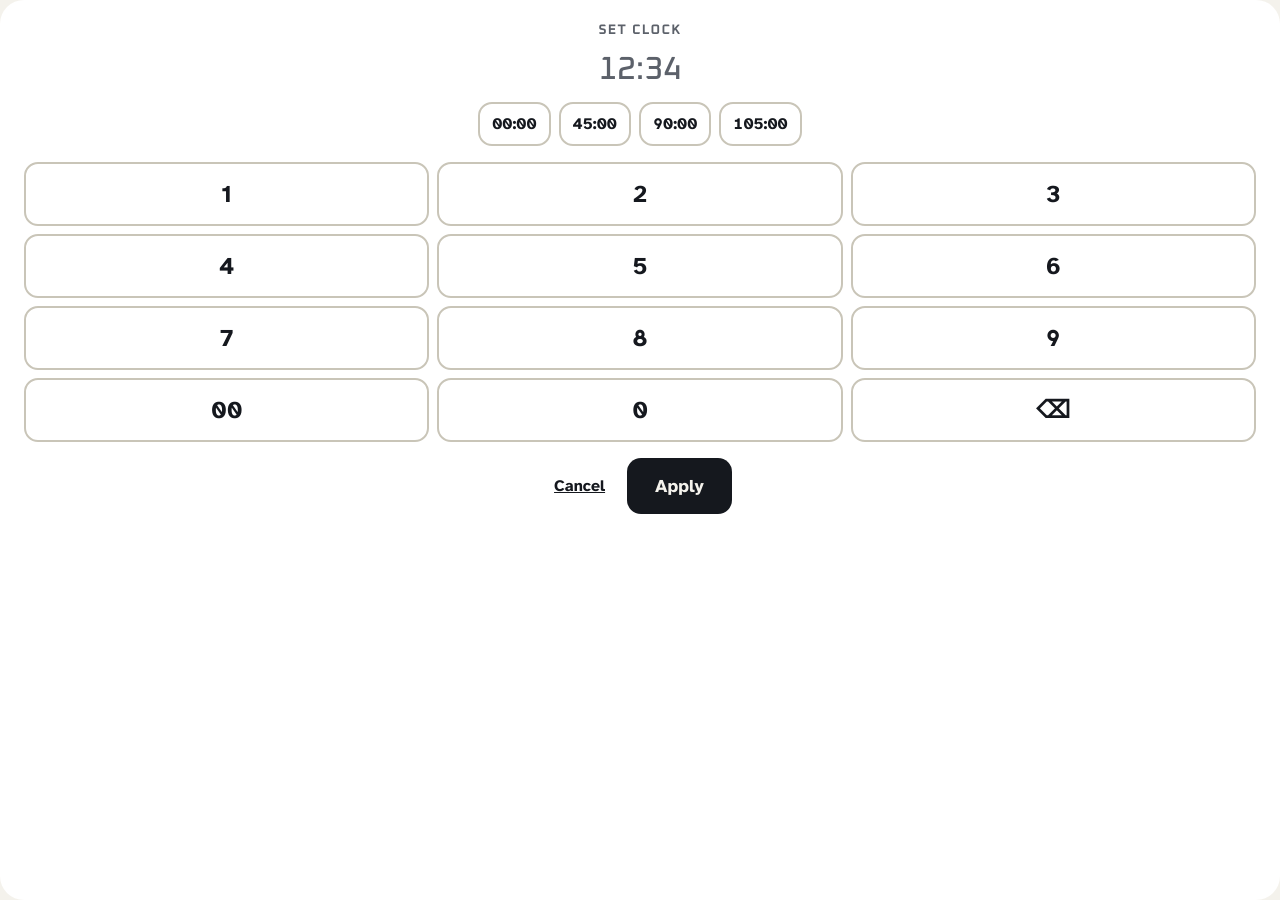
Test case: ClockSheet › shifts digits in from the right
This screenshot has width=1280, height=900.
Step 1. Click the button "4" → (227, 266), box [24, 234, 429, 298]
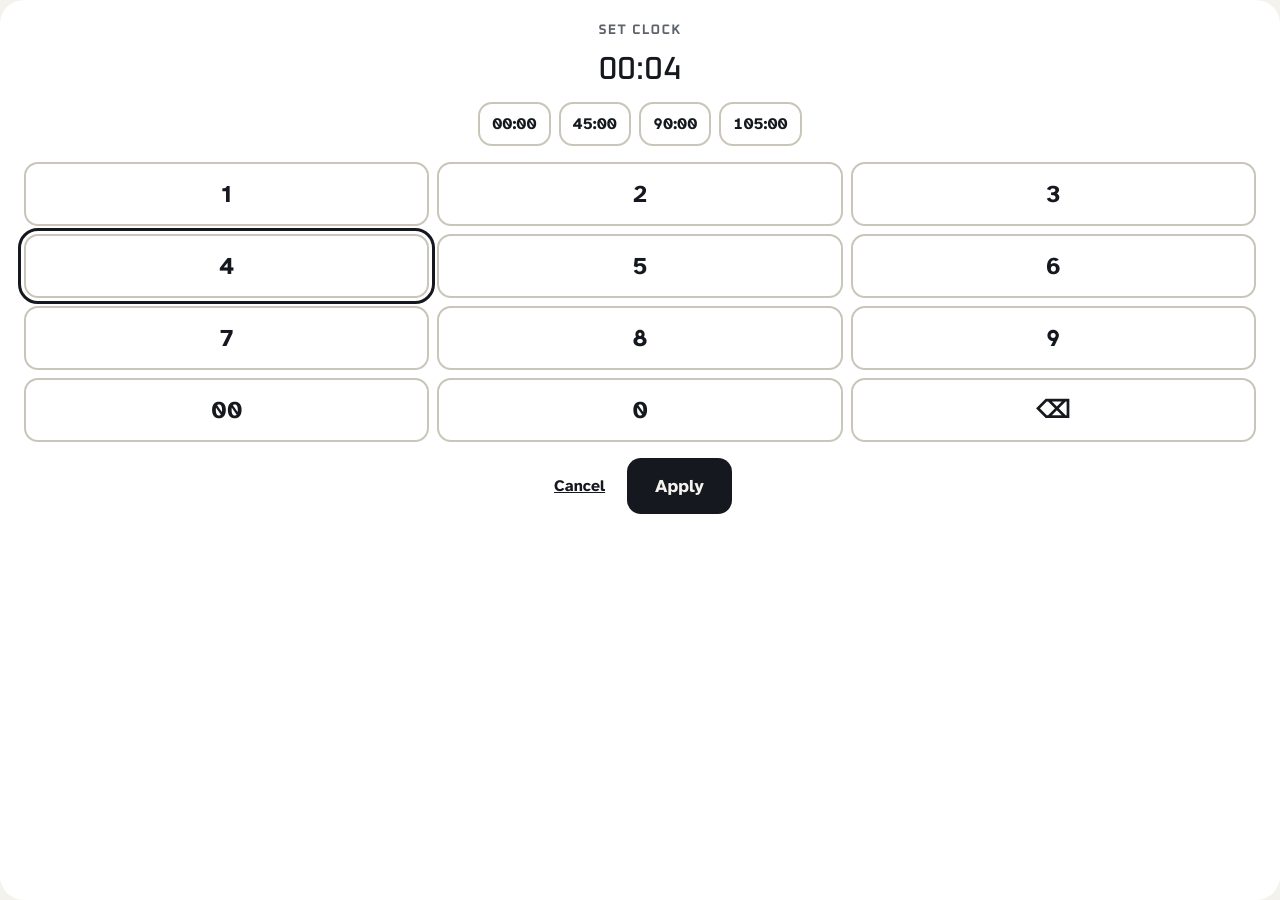
Check: the text named "New clock time" reads "00:04", box [599, 54, 681, 86]
Step 2. Click the button "5" → (640, 266), box [437, 234, 843, 298]
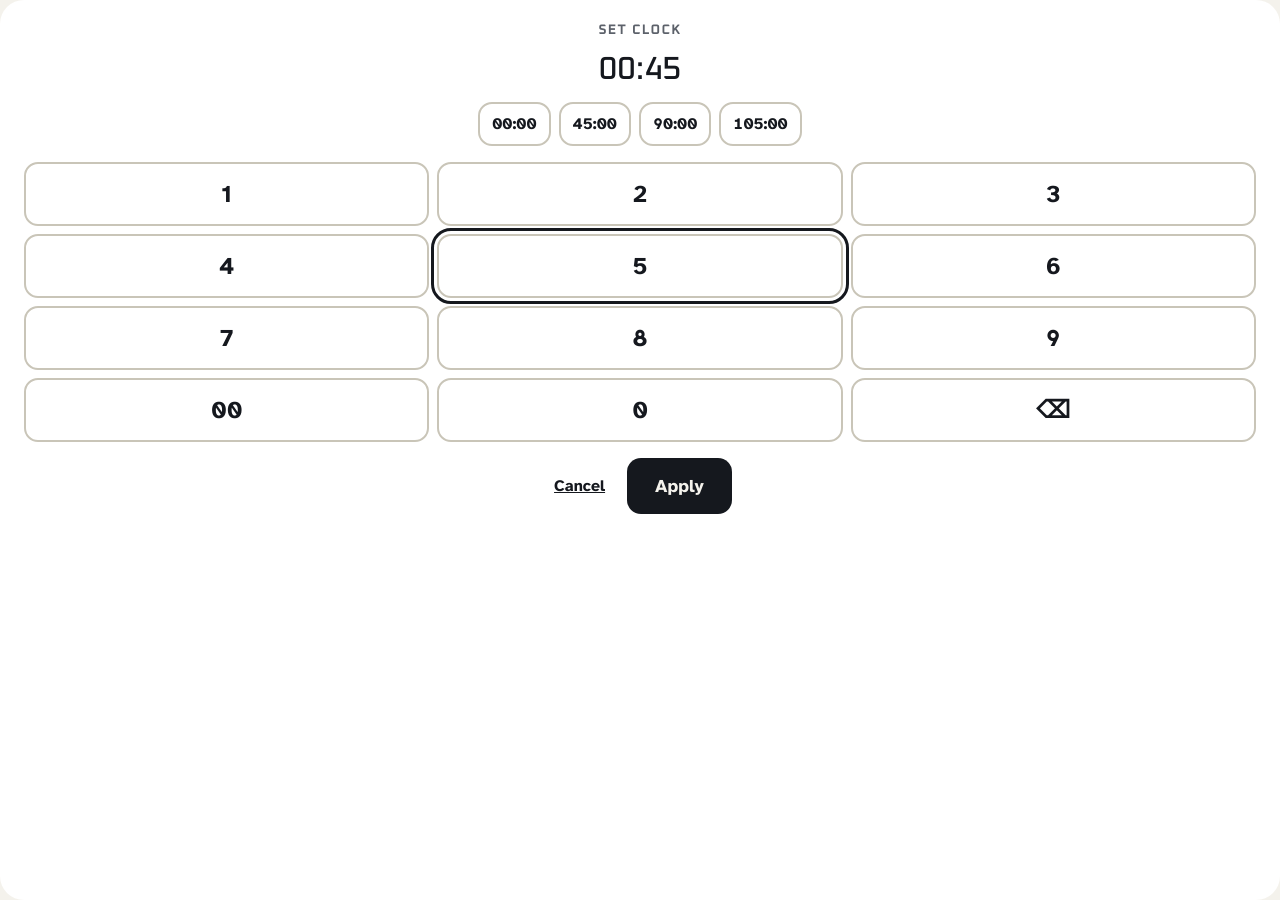
Step 3. Click the button "0" → (640, 410), box [437, 378, 843, 442]
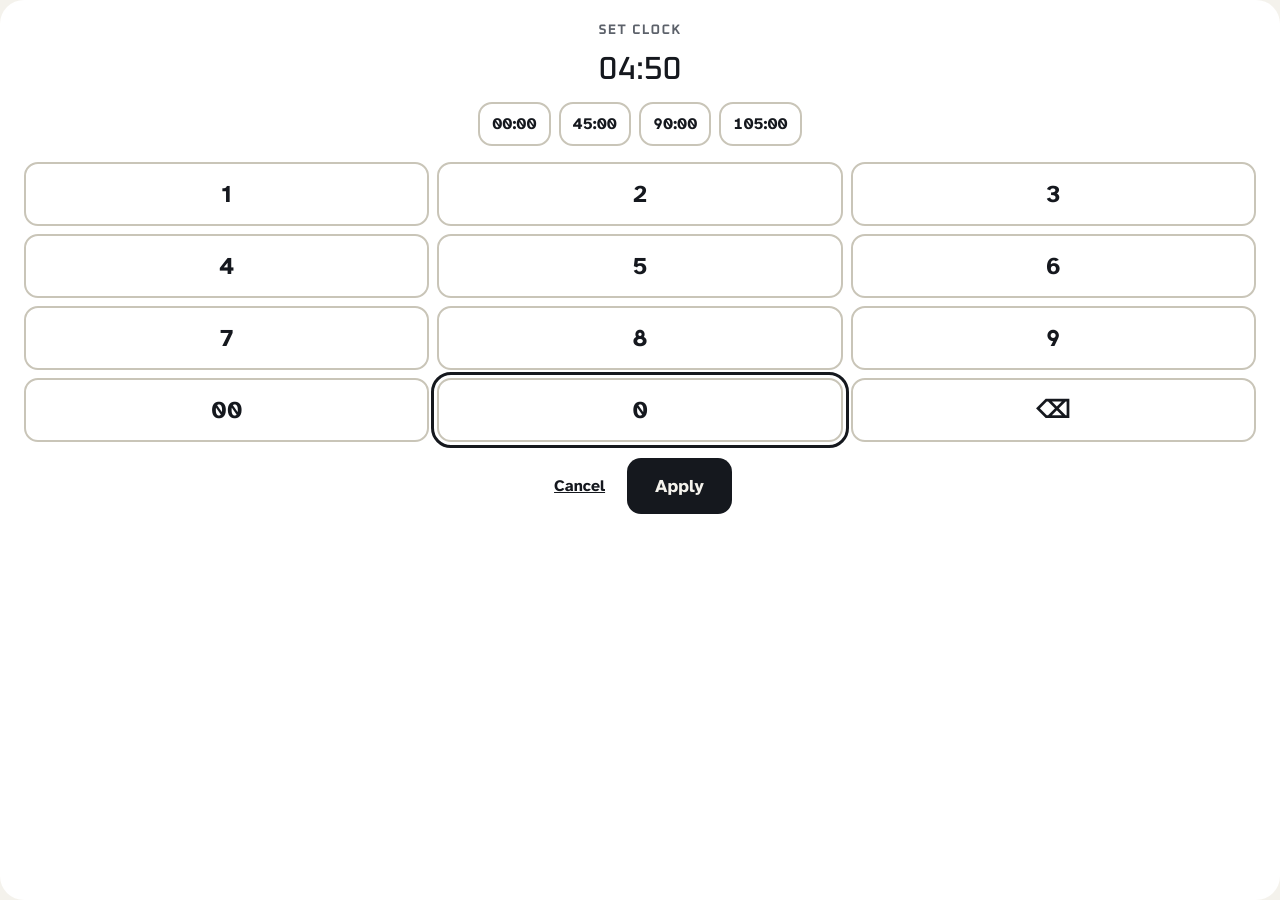
Check: the text named "New clock time" reads "04:50", box [599, 54, 681, 86]
